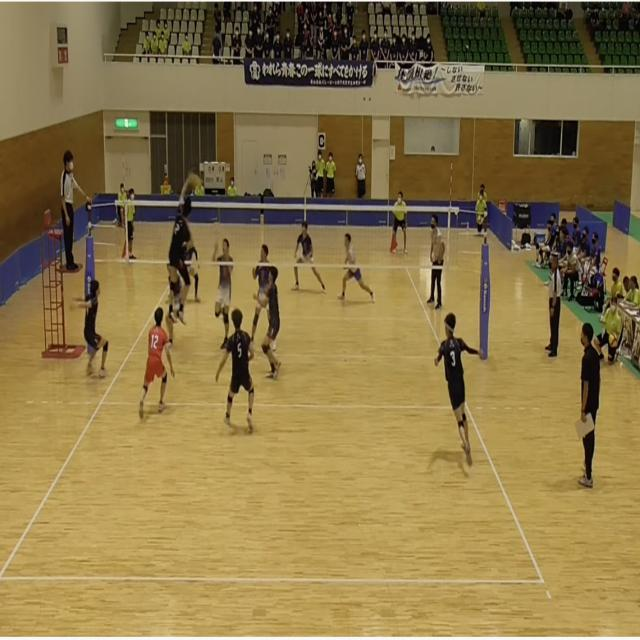spike: (165, 166, 208, 330)
